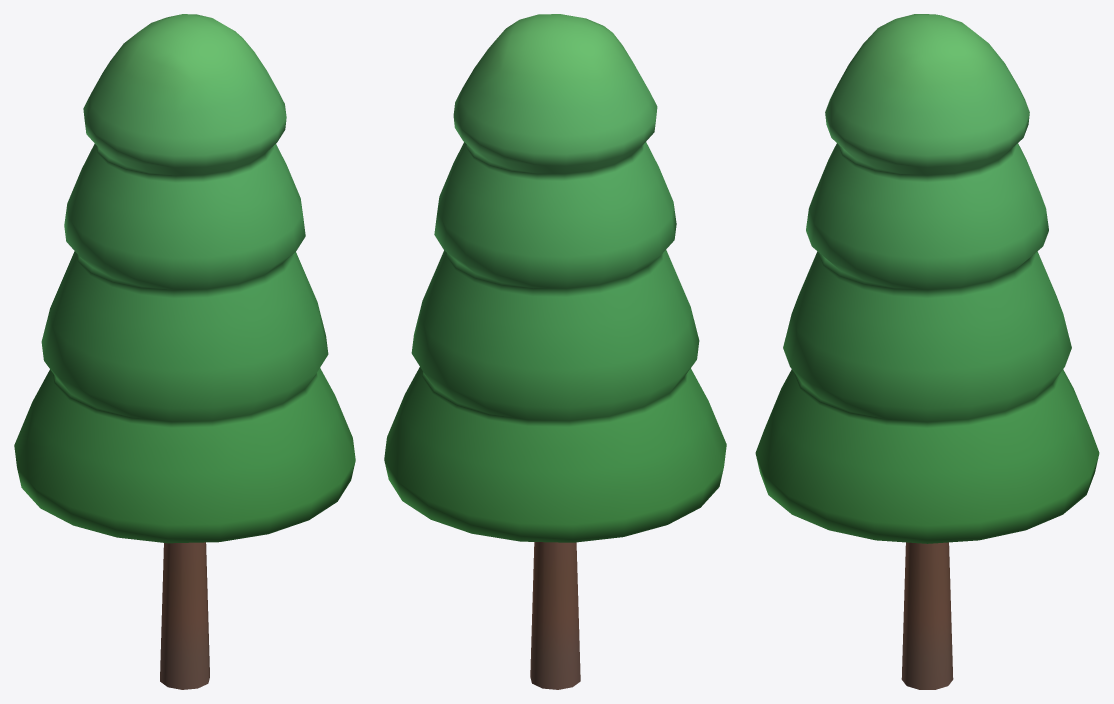
The model's file is Tree.fbx.
The picture shows the model from 3 angles, left to right: view 1: azimuth 30°, elevation 25°; view 2: azimuth 150°, elevation 25°; view 3: azimuth 270°, elevation 25°; orthographic projection.
Visible parts, largest first — view 1: Bush, Wood; view 2: Bush, Wood; view 3: Bush, Wood.
Part boxes in pixels (x1,y1,x2,y2): Bush: (14, 14, 355, 543); Wood: (160, 542, 209, 689); Bush: (384, 14, 726, 542); Wood: (530, 542, 580, 689); Bush: (755, 14, 1099, 543); Wood: (901, 542, 953, 689).
Size of the model in its own units: 378 by 799 by 378.
